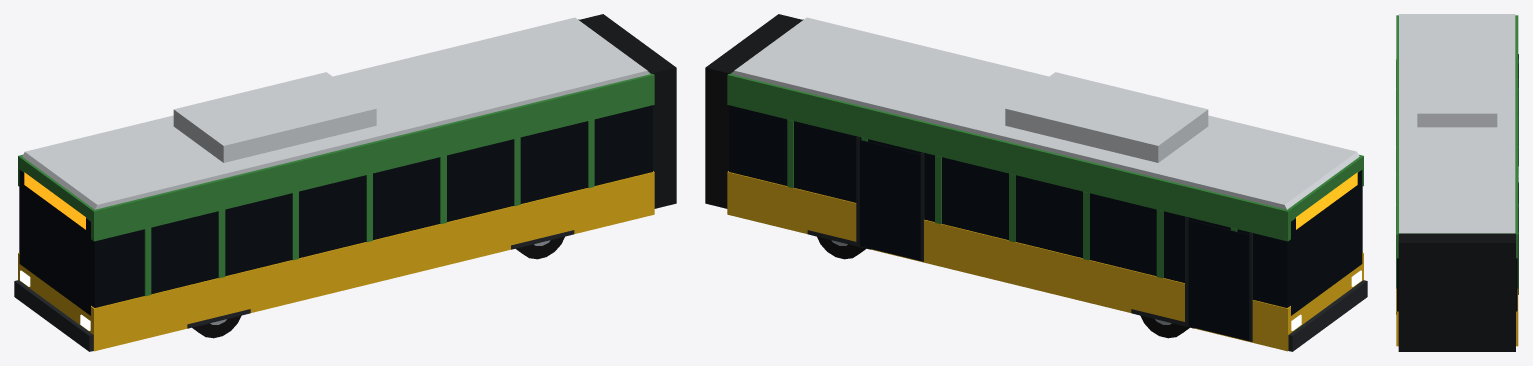
Rendered from bus60f-green.glb.
3 renders of one model, left to right at view 1: azimuth 30°, elevation 25°; view 2: azimuth 150°, elevation 25°; view 3: azimuth 270°, elevation 25°, orthographic. The views are drawn at different scales.
Visible parts, largest first — view 1: bus60-front; view 2: bus60-front; view 3: bus60-front.
Part boxes in pixels (x1,y1,x2,y2): bus60-front: [14, 14, 676, 351]; bus60-front: [705, 14, 1367, 351]; bus60-front: [1396, 14, 1518, 351].
Bounding box in the file's own units: 11.54 × 3.33 × 2.61.
